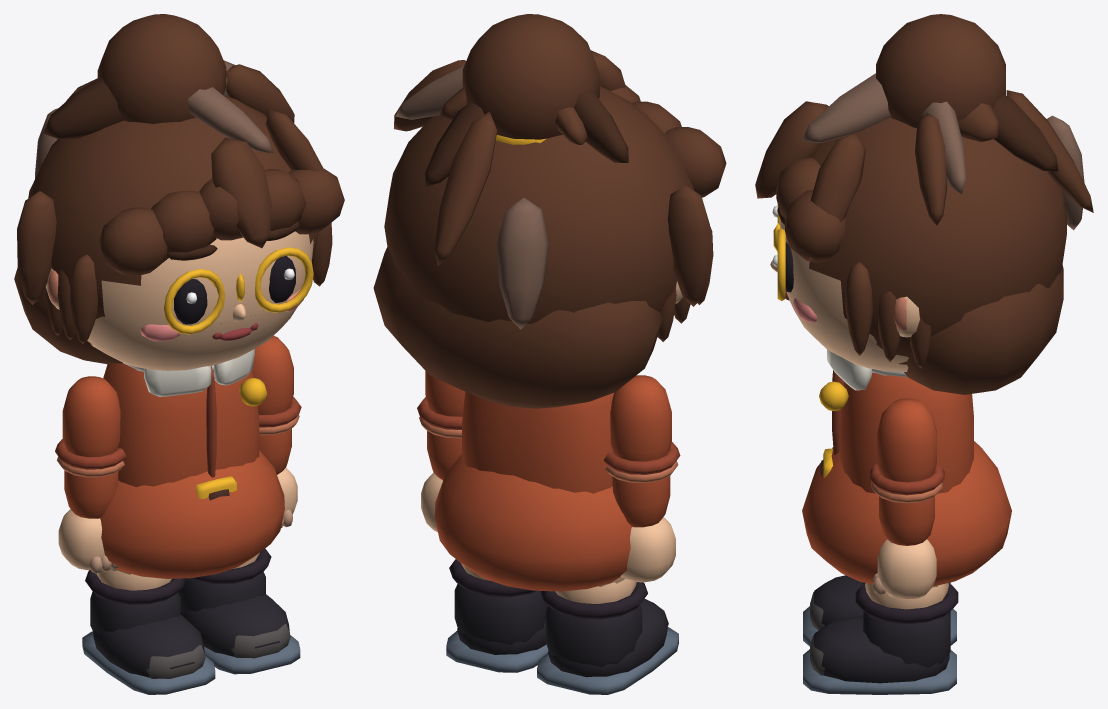
File: tilly.glb
3 views of the same model, side by side, from view 1: azimuth 30°, elevation 25°; view 2: azimuth 150°, elevation 25°; view 3: azimuth 270°, elevation 25° (orthographic). The views are drawn at different scales.
Parts seen in each view (by area): view 1: hair, torso, head, shin_r, shin_l, arm_r, arm_l, glasses, hand_r, eye_r, eye_l, leg_r (+1 smaller); view 2: hair, torso, shin_r, arm_r, shin_l, arm_l, hand_r, leg_r, hand_l; view 3: hair, torso, shin_l, arm_l, head, hand_l, shin_r, leg_l, glasses.
Boxes of the visible parts, x1=… form: hair: x1=14, y1=14, x2=344, y2=364; torso: x1=100, y1=349, x2=284, y2=578; head: x1=46, y1=221, x2=313, y2=370; shin_r: x1=82, y1=570, x2=215, y2=694; shin_l: x1=178, y1=548, x2=300, y2=674; arm_r: x1=55, y1=376, x2=126, y2=518; arm_l: x1=252, y1=335, x2=301, y2=474; glasses: x1=164, y1=247, x2=313, y2=334; hand_r: x1=58, y1=509, x2=118, y2=573; eye_r: x1=174, y1=279, x2=207, y2=324; eye_l: x1=269, y1=256, x2=295, y2=302; leg_r: x1=96, y1=568, x2=171, y2=590; hair: x1=373, y1=14, x2=726, y2=408; torso: x1=434, y1=391, x2=631, y2=591; shin_r: x1=537, y1=582, x2=678, y2=694; arm_r: x1=603, y1=375, x2=680, y2=527; shin_l: x1=446, y1=559, x2=548, y2=672; arm_l: x1=417, y1=371, x2=465, y2=480; hand_r: x1=620, y1=517, x2=675, y2=582; leg_r: x1=555, y1=577, x2=636, y2=603; hand_l: x1=421, y1=472, x2=442, y2=532; hair: x1=755, y1=14, x2=1093, y2=394; torso: x1=802, y1=349, x2=1011, y2=586; shin_l: x1=803, y1=583, x2=958, y2=694; arm_l: x1=869, y1=398, x2=944, y2=545; head: x1=770, y1=207, x2=919, y2=371; hand_l: x1=873, y1=539, x2=936, y2=599; shin_r: x1=803, y1=575, x2=956, y2=646; leg_l: x1=865, y1=583, x2=948, y2=609; glasses: x1=773, y1=204, x2=785, y2=300.
Bounding box in the file's own units: 0.5062 × 1.04 × 0.4995.
Materials: 1 (1 with a texture image).
